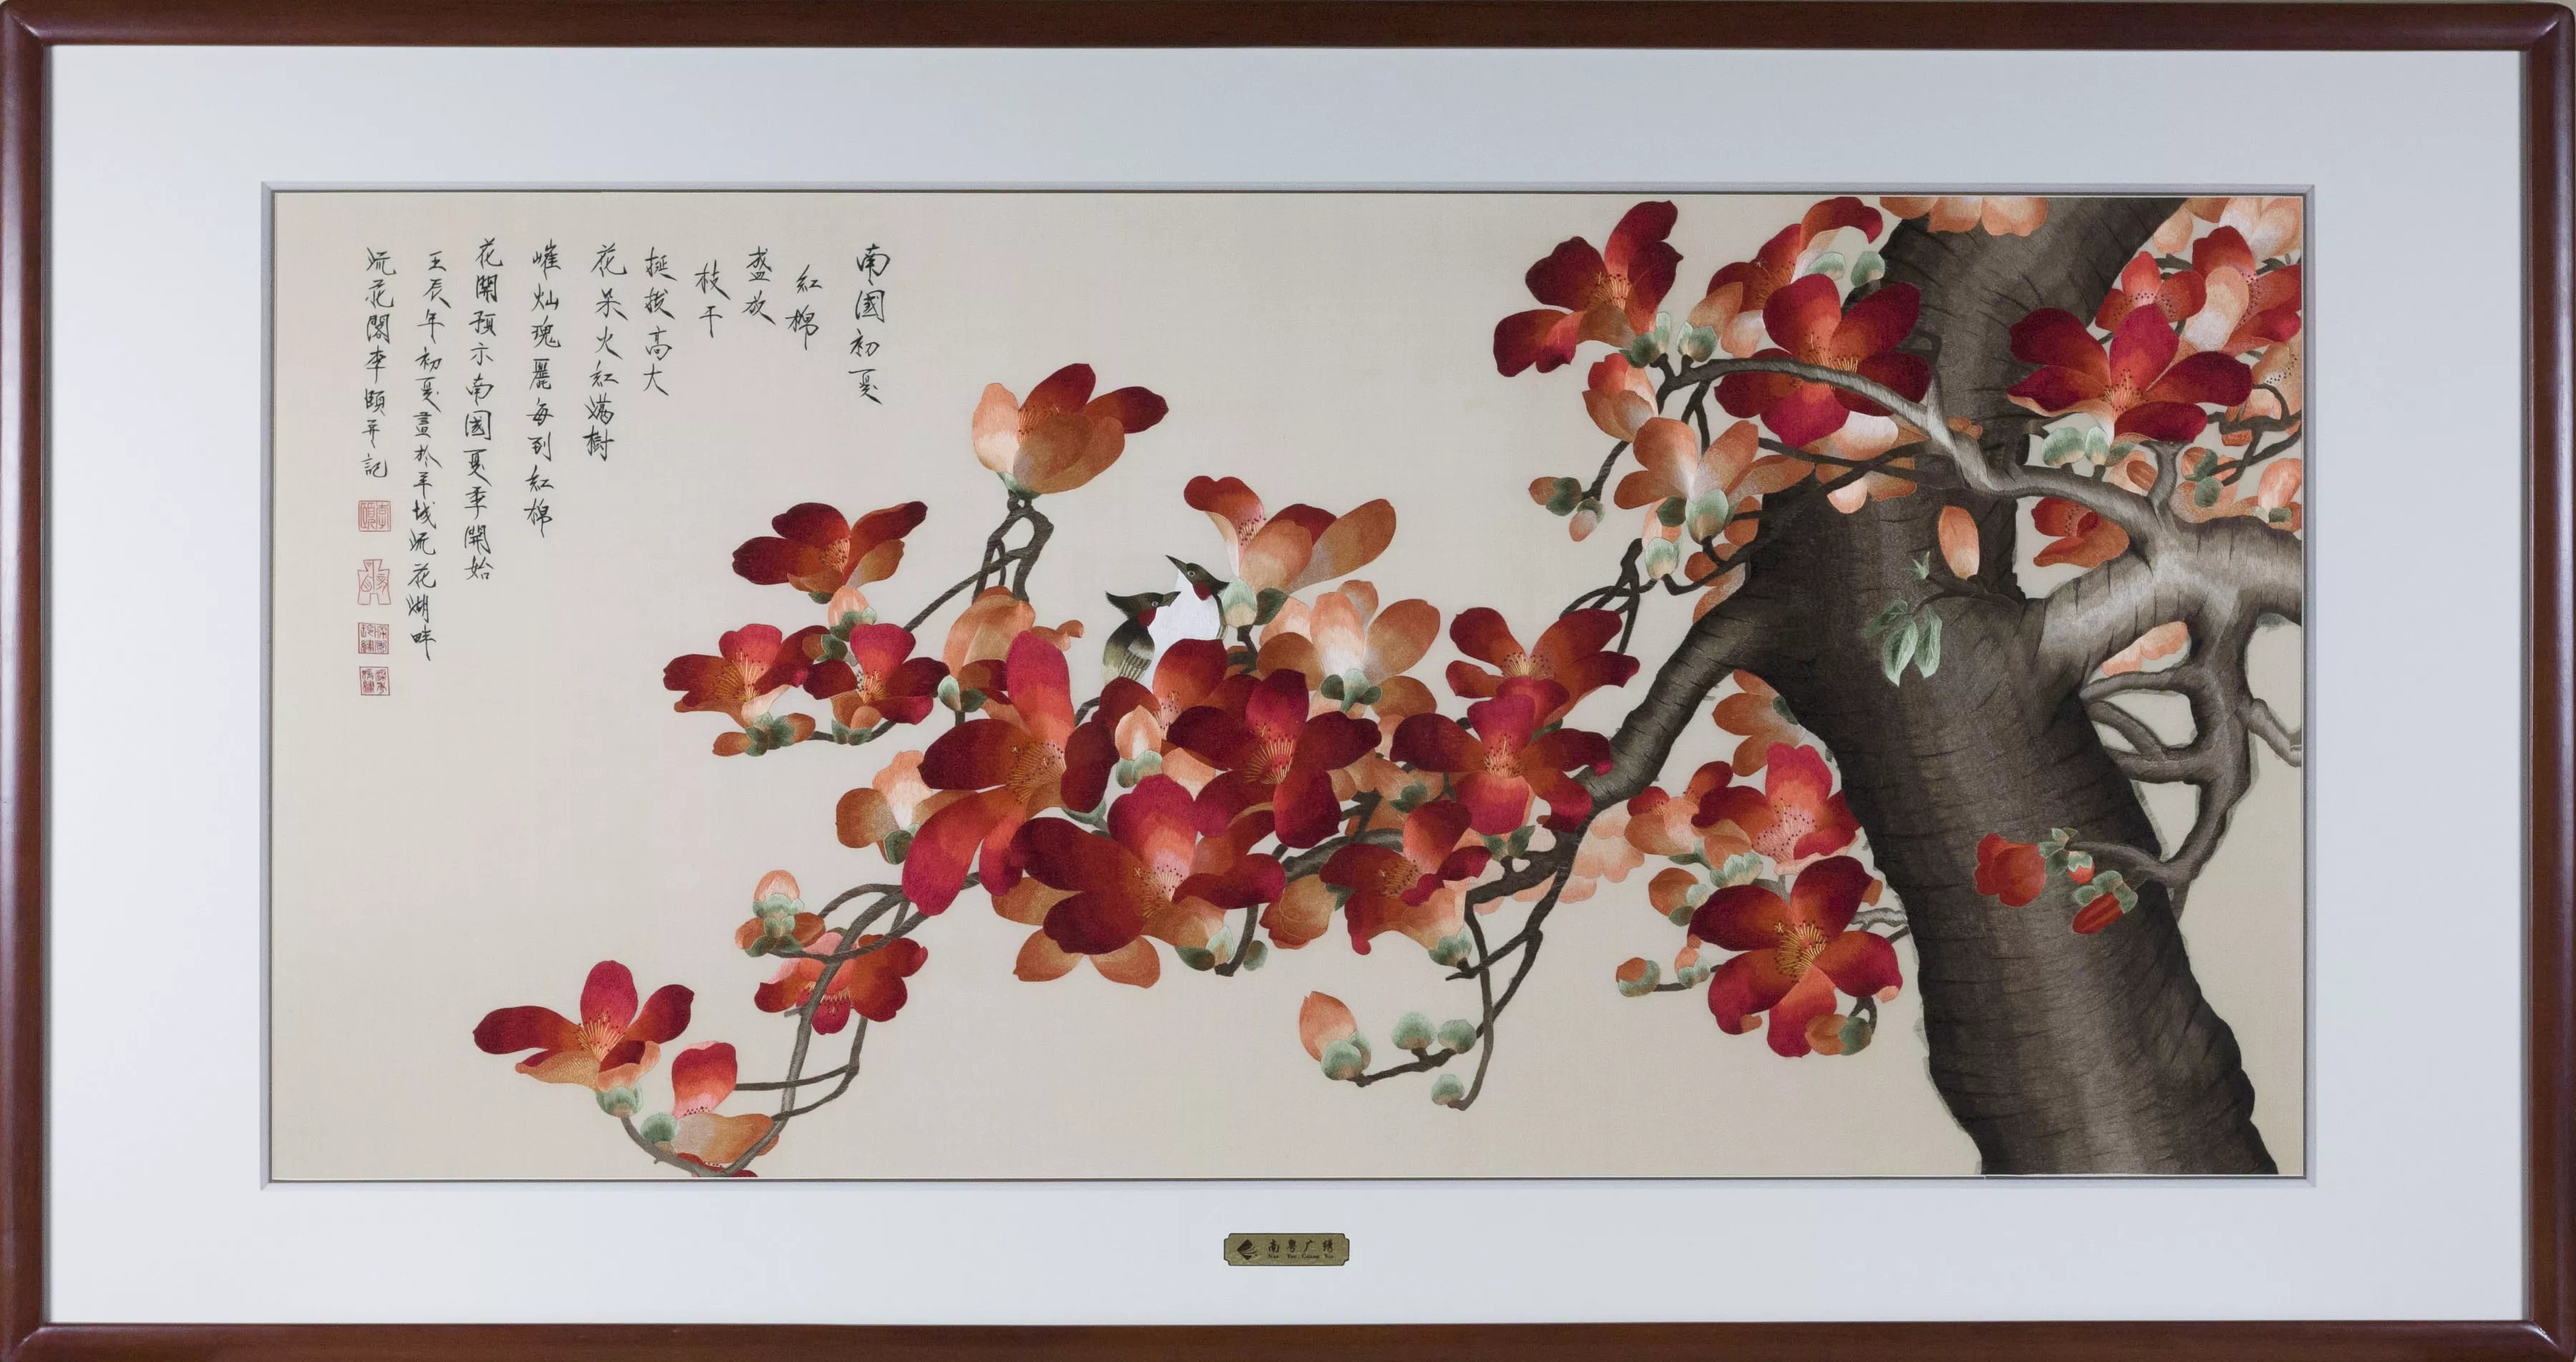bird: (1099, 589, 1182, 681), (1164, 554, 1229, 644)
kapok: (898, 632, 1106, 914), (1007, 772, 1299, 970), (1683, 856, 1905, 1059), (1163, 667, 1383, 850), (2008, 304, 2252, 466), (1712, 275, 1931, 449), (1183, 472, 1397, 638), (472, 957, 695, 1115), (1491, 200, 1684, 379), (1388, 692, 1615, 835), (1320, 801, 1494, 971), (970, 360, 1170, 500), (1707, 197, 1883, 356), (1257, 579, 1443, 725), (1611, 418, 1818, 542), (1444, 608, 1639, 731), (1104, 640, 1263, 790), (1687, 745, 1865, 874), (662, 625, 830, 753), (729, 501, 929, 605), (992, 878, 1166, 988), (756, 929, 930, 1037), (643, 1042, 779, 1177), (803, 622, 950, 745), (940, 587, 1084, 712), (835, 748, 980, 864), (2183, 227, 2303, 361), (1621, 761, 1735, 864), (1711, 667, 1805, 778), (1684, 498, 1765, 623), (2093, 252, 2206, 330), (733, 871, 824, 960), (1880, 193, 2049, 237), (2032, 494, 2130, 568), (1298, 991, 1377, 1082), (1582, 353, 1658, 444), (1972, 833, 2046, 906)
